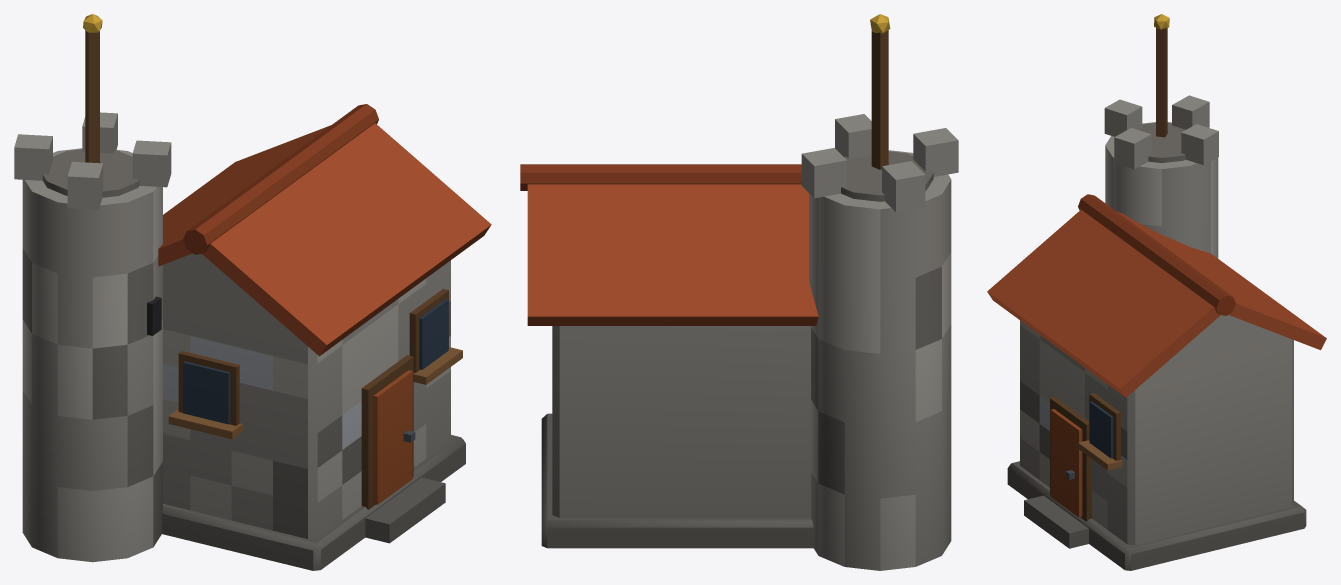
The model's file is building_30.glb.
3 renders of one model, left to right at view 1: azimuth 30°, elevation 25°; view 2: azimuth 150°, elevation 25°; view 3: azimuth 270°, elevation 25°, orthographic. The views are drawn at different scales.
Visible parts, largest first — view 1: building_30; view 2: building_30; view 3: building_30.
Part boxes in pixels (x1,y1,x2,y2): building_30: (14,14,491,570); building_30: (520,14,958,570); building_30: (987,14,1326,570).
Size of the model in its own units: 0.7156 by 0.816 by 0.6008.
